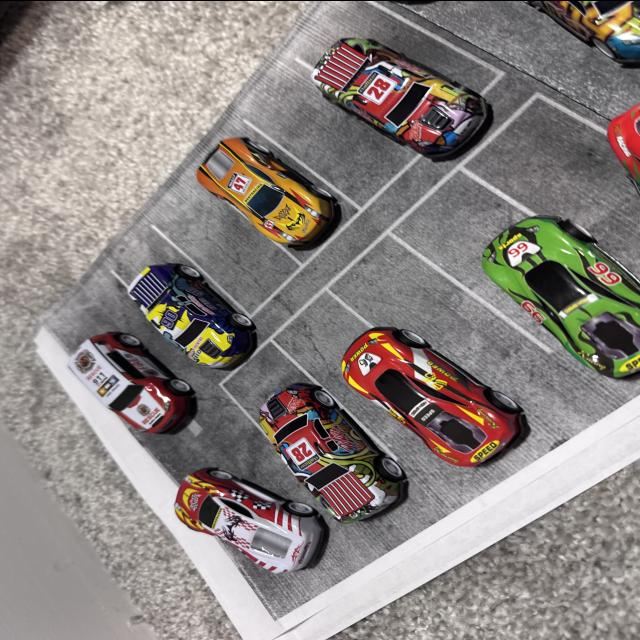car: (452, 196, 640, 382), (205, 112, 384, 302), (312, 316, 568, 446), (243, 362, 433, 524), (316, 0, 520, 144), (162, 458, 336, 570), (62, 321, 200, 458), (128, 235, 274, 362), (475, 0, 639, 62), (591, 73, 640, 219), (348, 0, 458, 17)
